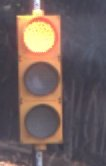Red: (11, 8, 73, 153)
